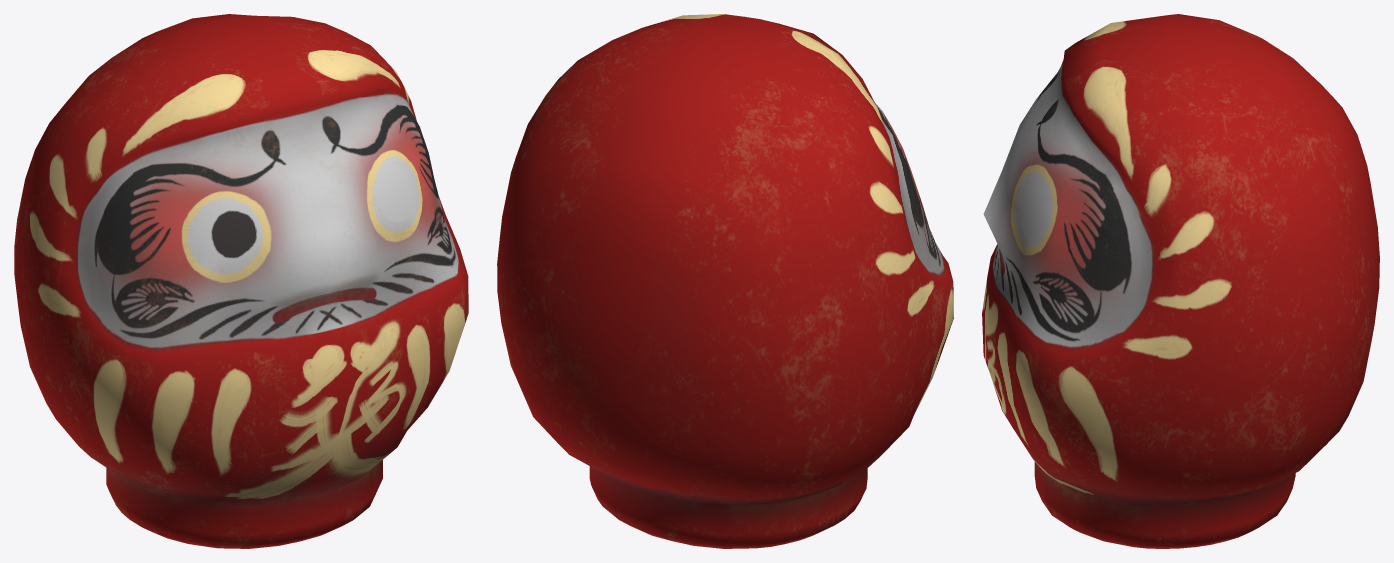
File: DarumaOneEye.glb
The picture shows the model from 3 angles, left to right: view 1: azimuth 30°, elevation 25°; view 2: azimuth 150°, elevation 25°; view 3: azimuth 270°, elevation 25°; orthographic projection.
Visible parts, largest first — view 1: Daruma_low; view 2: Daruma_low; view 3: Daruma_low.
Boxes of the visible parts, x1=… form: Daruma_low: x1=14, y1=14, x2=468, y2=548; Daruma_low: x1=497, y1=14, x2=953, y2=548; Daruma_low: x1=982, y1=14, x2=1379, y2=548.
Bounding box in the file's own units: 33.11 × 38.13 × 29.93.
Materials: 1 (1 with a texture image).
